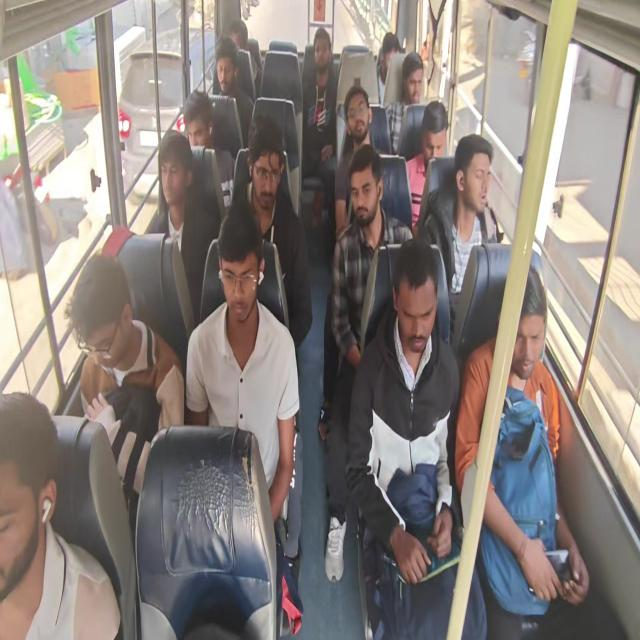person: (0, 390, 64, 596), (71, 250, 139, 369), (218, 222, 266, 326), (245, 124, 289, 210), (398, 265, 438, 357), (514, 289, 547, 378), (462, 148, 498, 215), (152, 144, 186, 207), (348, 162, 376, 225), (420, 103, 448, 163), (208, 37, 240, 87), (178, 102, 208, 151), (306, 24, 332, 79), (371, 34, 400, 76), (404, 54, 424, 109), (346, 93, 368, 140), (226, 22, 252, 57)
